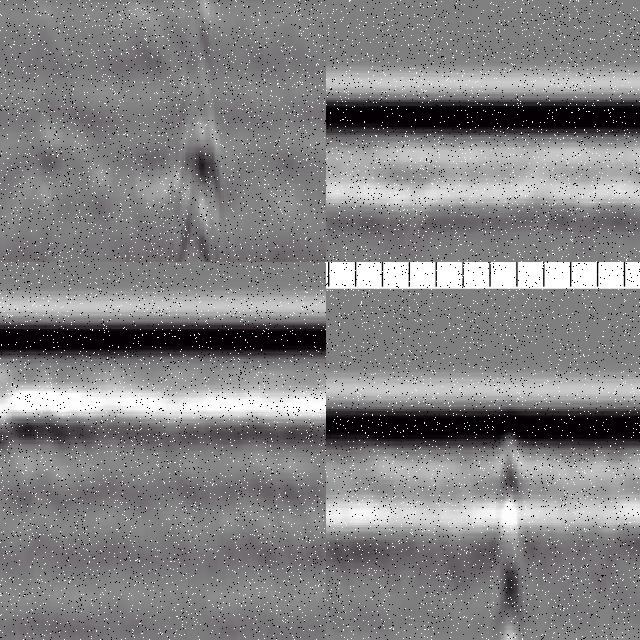crack: (177, 1, 221, 263), (493, 433, 524, 640), (1, 392, 19, 640)
